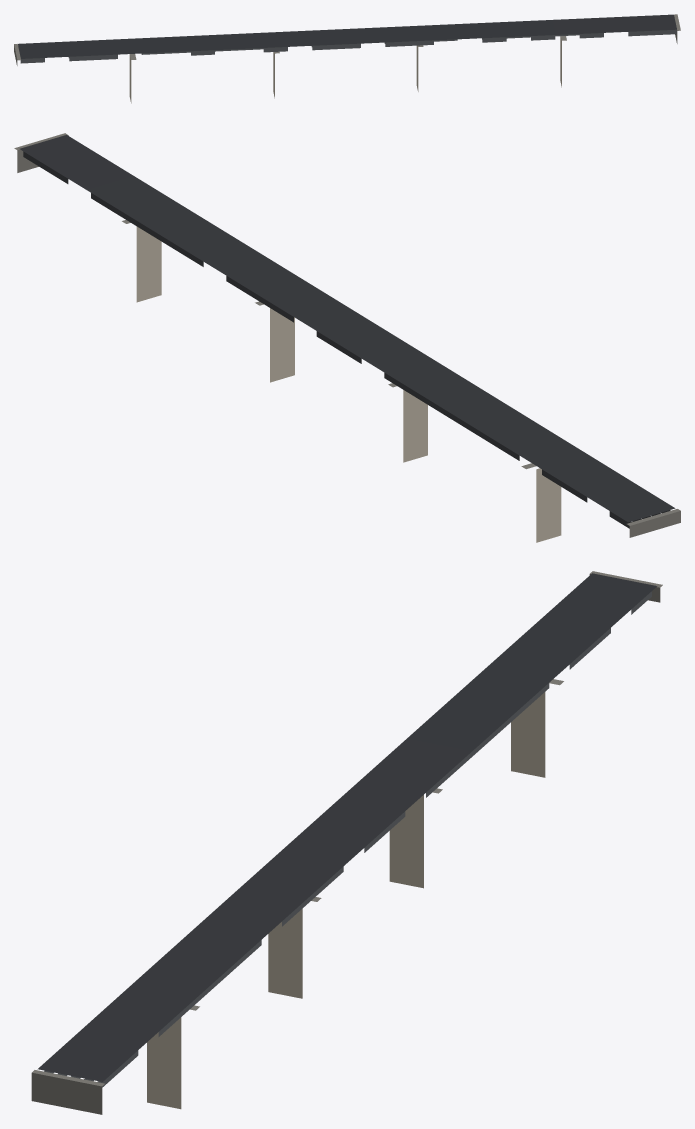
The model's file is br_r21_clover_bar_lod2.gltf.
The picture shows the model from 3 angles, top to bottom: view 1: azimuth 30°, elevation 25°; view 2: azimuth 150°, elevation 25°; view 3: azimuth 270°, elevation 25°; orthographic projection. The views are drawn at different scales.
Visible parts, largest first — view 1: br_r21_clover_bar_lod2; view 2: br_r21_clover_bar_lod2; view 3: br_r21_clover_bar_lod2.
Boxes of the visible parts, left/top/right/bottom form: br_r21_clover_bar_lod2: left=14, top=14, right=680, bottom=103; br_r21_clover_bar_lod2: left=14, top=133, right=680, bottom=542; br_r21_clover_bar_lod2: left=31, top=571, right=662, bottom=1114.
Bounding box in the file's own units: 301 × 31.05 × 153.
